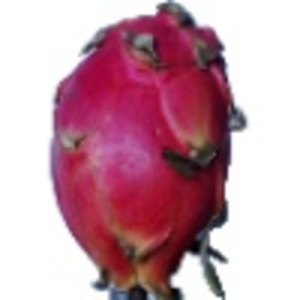pitaia: (48, 1, 250, 300)
